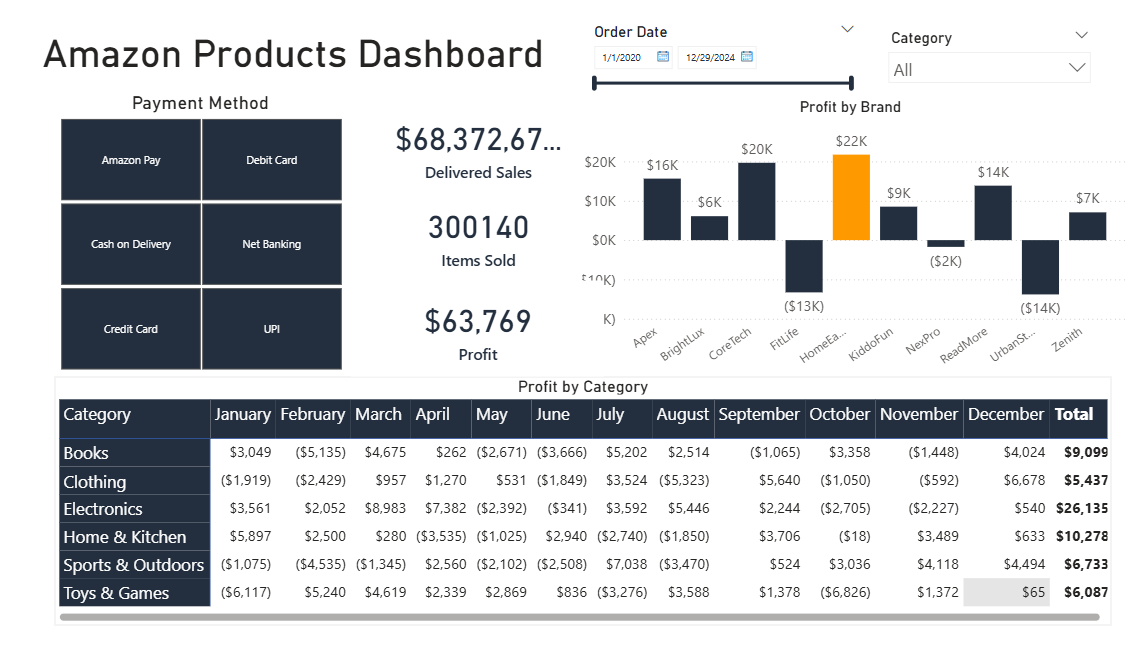

What the dashboard file says about the page in this screenshot:
{"tool":"powerbi","page":{"name":"Page 2","canvas":[1280,720],"ordinal":1},"visuals":[{"type":"textbox","box":[47,27.5,620.2,81],"z":0},{"type":"pivotTable","title":"Profit by Category","fields":{"Rows":["Amazon (1).Category"],"Values":["Amazon (1).Profit"],"Columns":["Date Column.Date.Variation.Date Hierarchy.Year","Date Column.Date.Variation.Date Hierarchy.Month"]},"box":[65,418.3,1175,276.7],"z":1000},{"type":"columnChart","fields":{"Category":["Amazon (1).Brand","Amazon (1).Category"],"Y":["Amazon (1).Profit"]},"box":[638,108.5,621.8,309.3],"z":2000},{"type":"card","fields":{"Values":["Amazon (1).Items Sold"]},"box":[419.4,200.8,231.5,119.8],"z":3000},{"type":"card","fields":{"Values":["Amazon (1).Profit"]},"box":[395.1,310.9,280.1,106.9],"z":4000},{"type":"card","fields":{"Values":["Amazon (1).Delivered Sales"]},"box":[437.2,108.5,197.5,108.5],"z":5000},{"type":"slicer","fields":{"Values":["Amazon (1).Order Date"]},"box":[650.9,19.4,314.1,89.1],"z":6000},{"type":"slicer","fields":{"Values":["Amazon (1).Category"]},"box":[981.3,25.9,244.5,76.1],"z":7000},{"type":"slicer","title":"Payment Method","fields":{"Values":["Amazon (1).Payment Method"]},"box":[47,102,361.1,315.7],"z":8000}]}

Visuals, with their boxes in screenshot pixels (x1, y1, x2, y2), scaled from the page's 1280x720 canvas onto the 1148x646 screenshot:
textbox: box(42, 25, 598, 97)
"Profit by Category" pivotTable: box(58, 375, 1112, 624)
columnChart - Amazon (1).Brand x Amazon (1).Category: box(572, 97, 1130, 375)
card - Amazon (1).Items Sold: box(376, 180, 584, 288)
card - Amazon (1).Profit: box(354, 279, 606, 375)
card - Amazon (1).Delivered Sales: box(392, 97, 569, 195)
slicer - Amazon (1).Order Date: box(584, 17, 865, 97)
slicer - Amazon (1).Category: box(880, 23, 1099, 92)
"Payment Method" slicer: box(42, 92, 366, 375)
